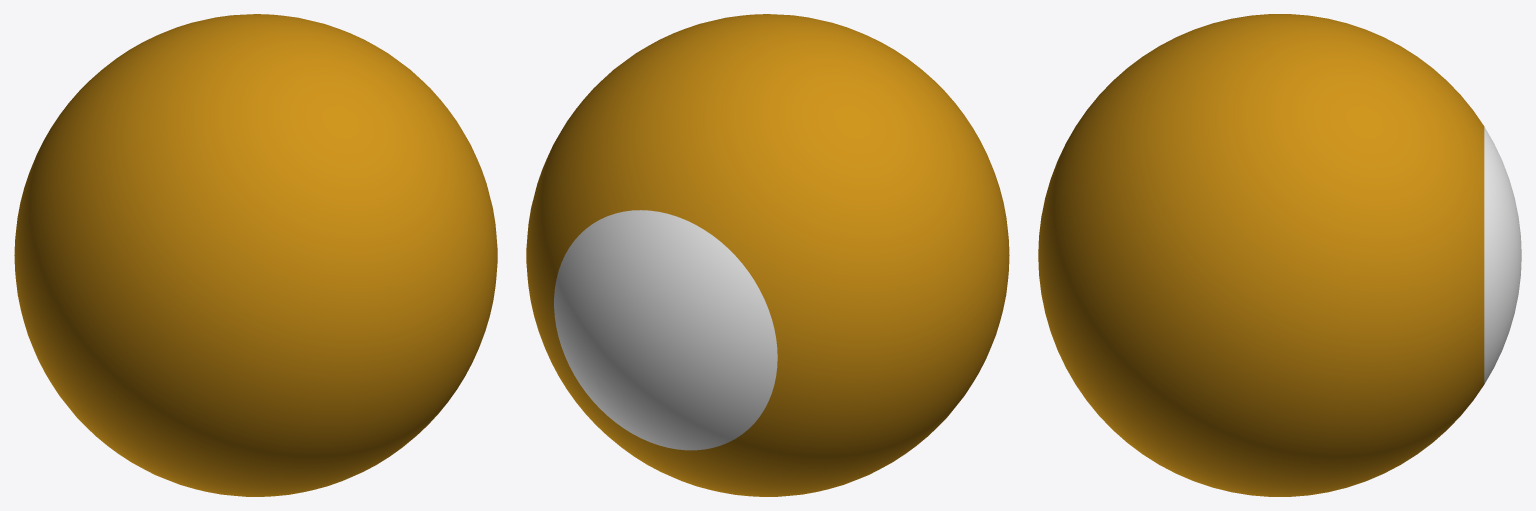
The model's file is 1Ball.dae.
The picture shows the model from 3 angles, left to right: view 1: azimuth 30°, elevation 25°; view 2: azimuth 150°, elevation 25°; view 3: azimuth 270°, elevation 25°; orthographic projection.
Size of the model in its own units: 0.0571 by 0.0572 by 0.0571.
